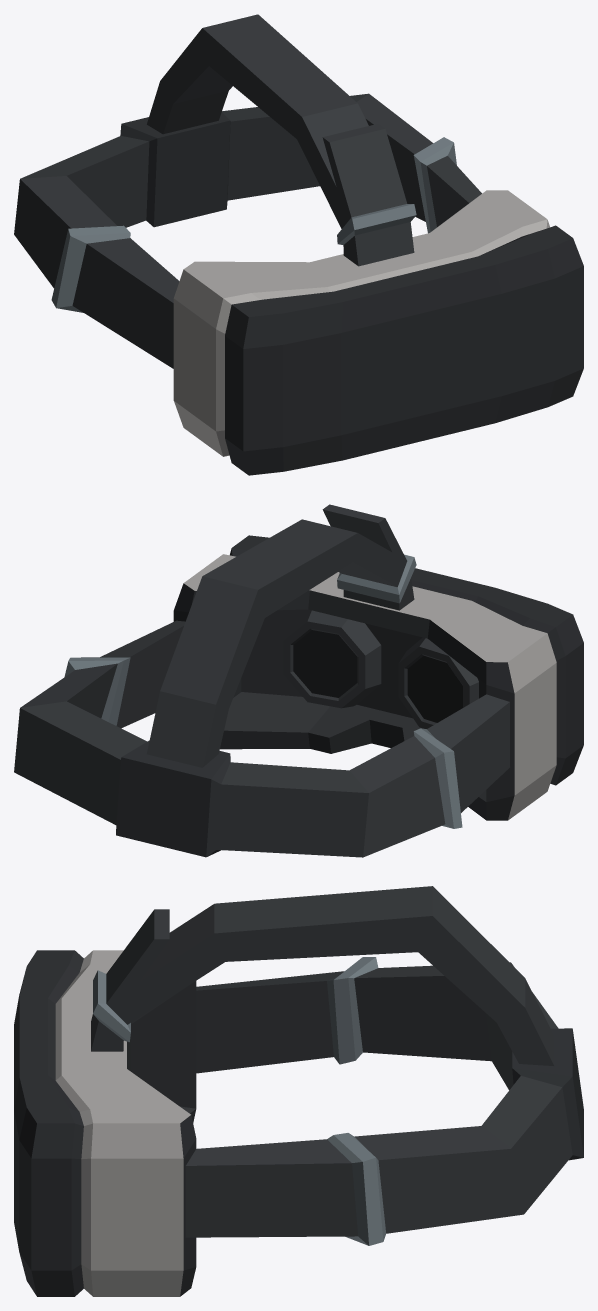
File: SM_Prop_VR_Headset_02.fbx
The picture shows the model from 3 angles, top to bottom: view 1: azimuth 30°, elevation 25°; view 2: azimuth 150°, elevation 25°; view 3: azimuth 270°, elevation 25°; orthographic projection. The views are drawn at different scales.
Visible parts, largest first — view 1: SM_Prop_VR_Headset_02; view 2: SM_Prop_VR_Headset_02; view 3: SM_Prop_VR_Headset_02.
Boxes of the visible parts, x1,y1,x2,y2 form: SM_Prop_VR_Headset_02: (14, 14, 583, 475); SM_Prop_VR_Headset_02: (14, 504, 583, 857); SM_Prop_VR_Headset_02: (14, 886, 583, 1296).
Bounding box in the file's own units: 28.87 × 19.19 × 32.05.
